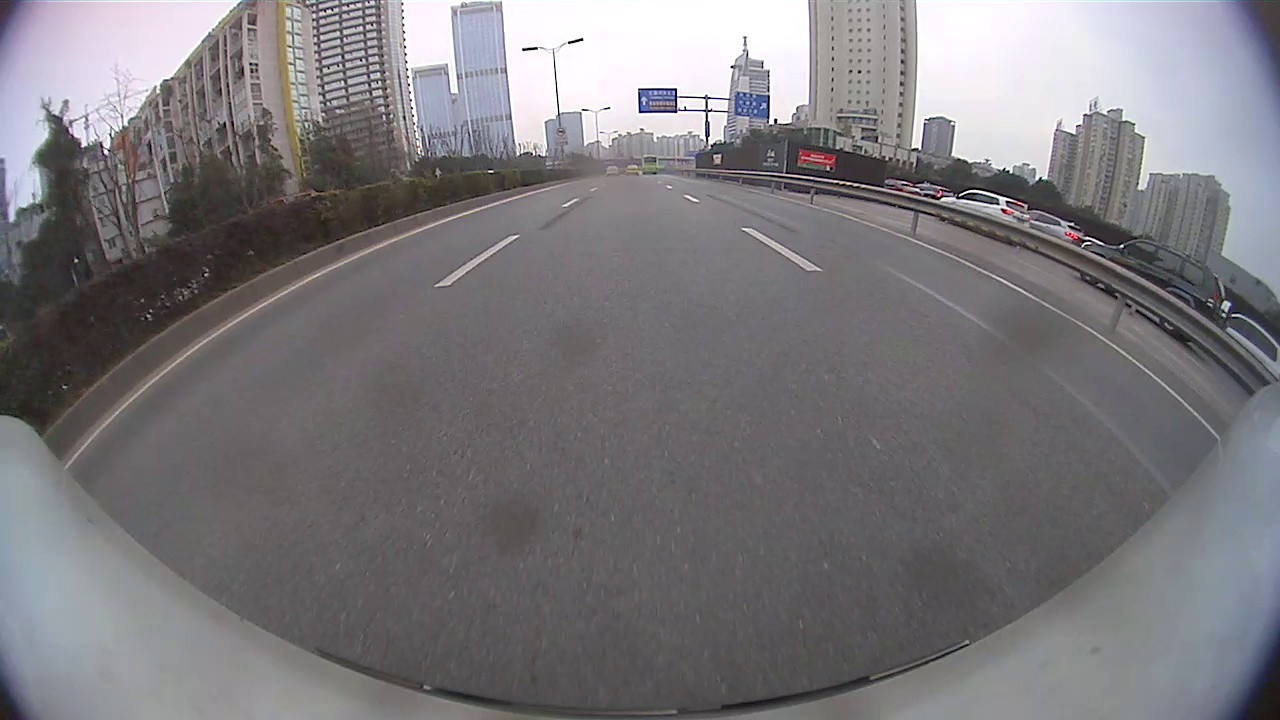car: (1085, 239, 1231, 337), (1222, 312, 1279, 387), (941, 187, 1031, 234), (1023, 209, 1085, 245), (1082, 236, 1106, 250)
